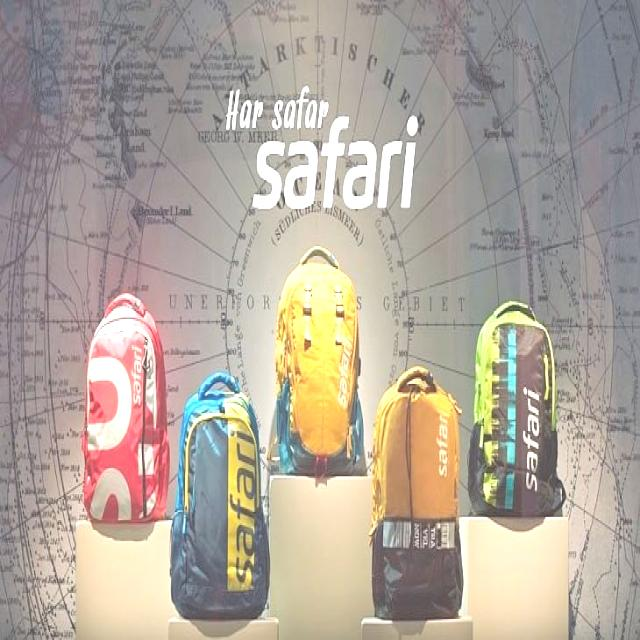backpack: (170, 372, 271, 620), (371, 366, 465, 620), (468, 301, 567, 518), (276, 246, 368, 478), (82, 293, 170, 525)
